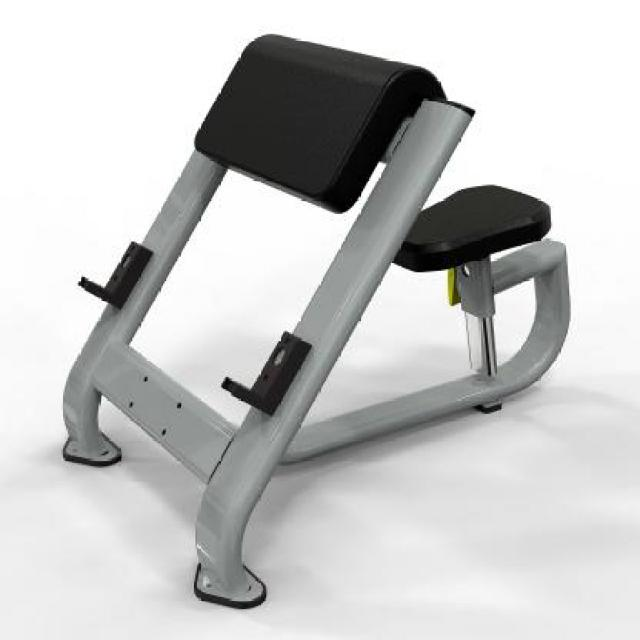arm curl machine: (63, 36, 571, 610)
